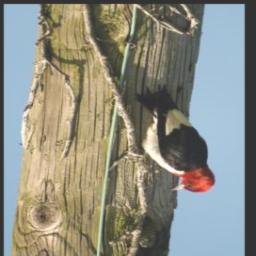Woodpecker: (123, 84, 217, 194)
